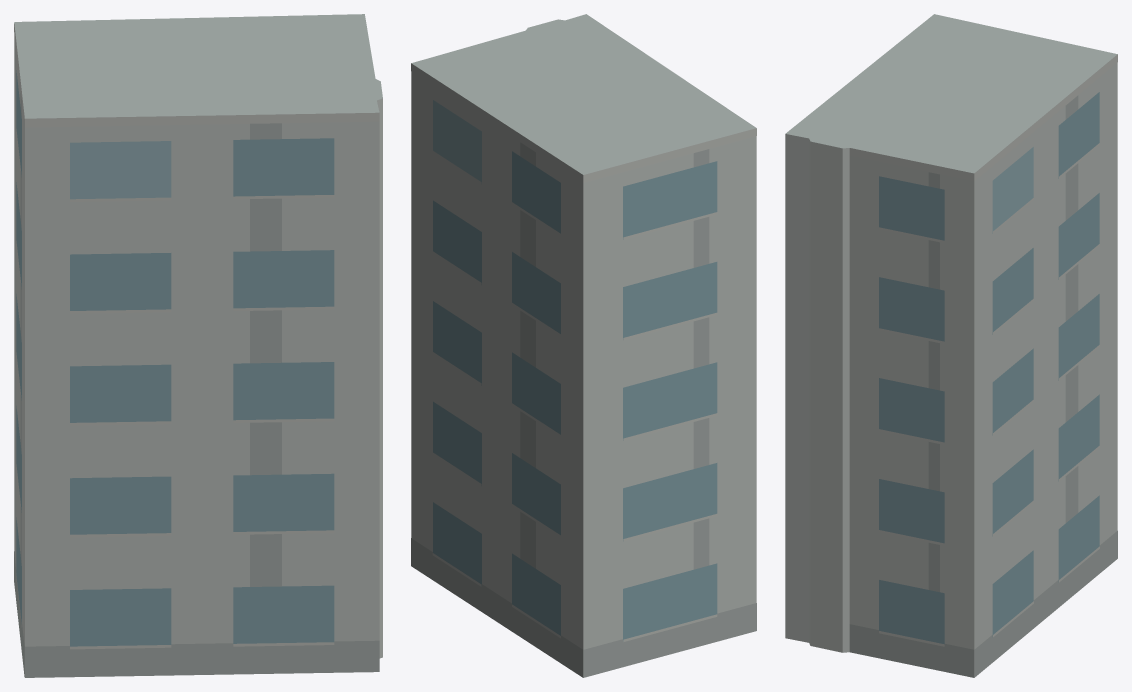
Rendered from survey-upis-32725393.glb.
3 renders of one model, left to right at view 1: azimuth 30°, elevation 25°; view 2: azimuth 150°, elevation 25°; view 3: azimuth 270°, elevation 25°, orthographic. The views are drawn at different scales.
Visible parts, largest first — view 1: survey-upis-32725393.tmp; view 2: survey-upis-32725393.tmp; view 3: survey-upis-32725393.tmp.
Part boxes in pixels (x1=…): survey-upis-32725393.tmp: x1=14, y1=14, x2=382, y2=677; survey-upis-32725393.tmp: x1=411, y1=14, x2=756, y2=677; survey-upis-32725393.tmp: x1=785, y1=14, x2=1117, y2=677.
Bounding box in the file's own units: 10.35 × 15.25 × 9.12.
